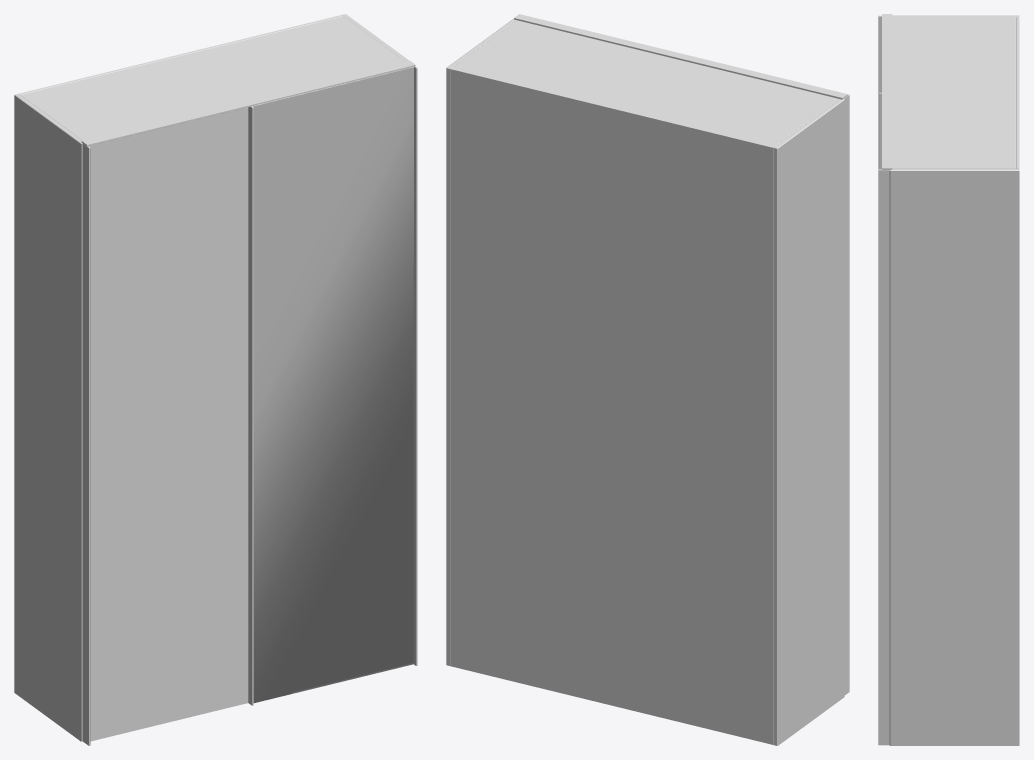
The model's file is cabinet_B07C41C1C8.glb.
3 renders of one model, left to right at view 1: azimuth 30°, elevation 25°; view 2: azimuth 150°, elevation 25°; view 3: azimuth 270°, elevation 25°, orthographic. The views are drawn at different scales.
Visible parts, largest first — view 1: B07CC724P2; view 2: B07CC724P2; view 3: B07CC724P2.
Part boxes in pixels (x1,y1,x2,y2): B07CC724P2: [14, 14, 417, 745]; B07CC724P2: [446, 14, 849, 745]; B07CC724P2: [878, 14, 1019, 745].
Bounding box in the file's own units: 1.25 × 2.16 × 0.4798.
1 material, 1 textured.
